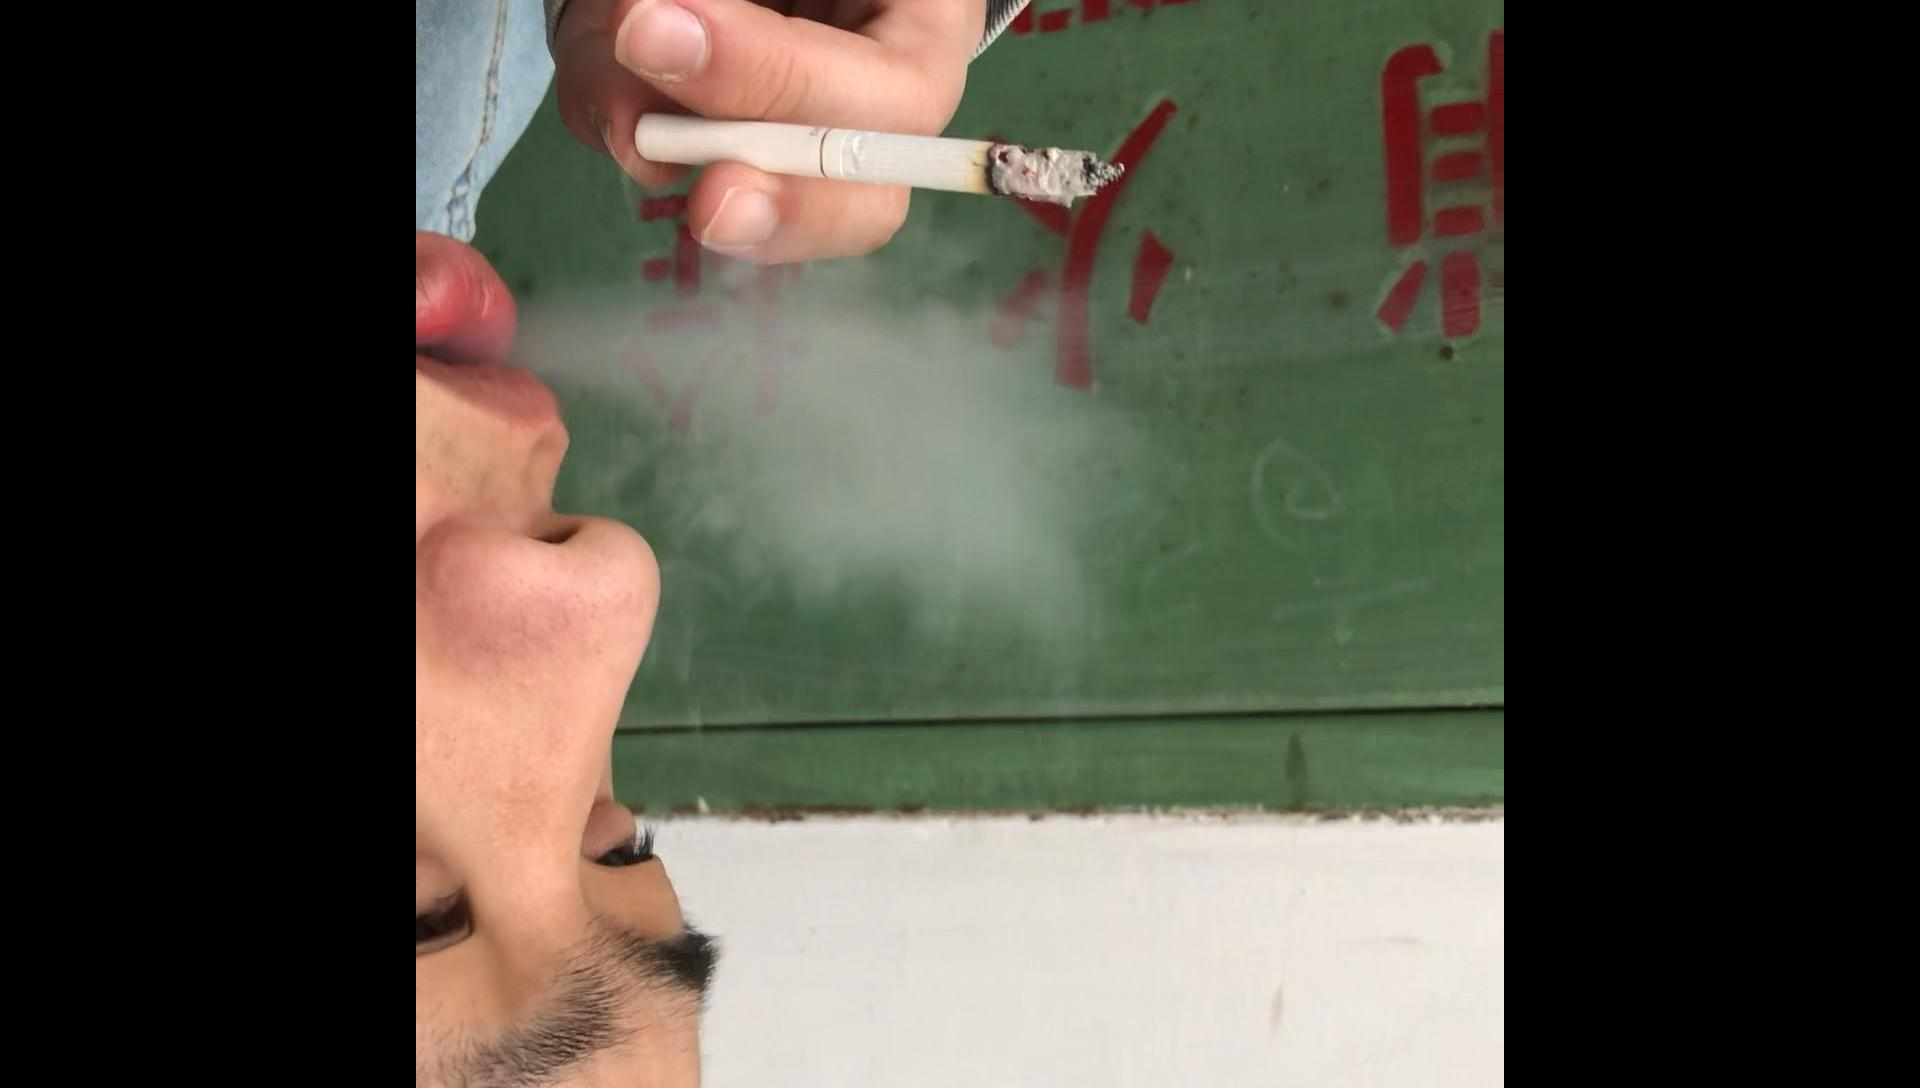Cigarette: (629, 103, 1116, 207)
